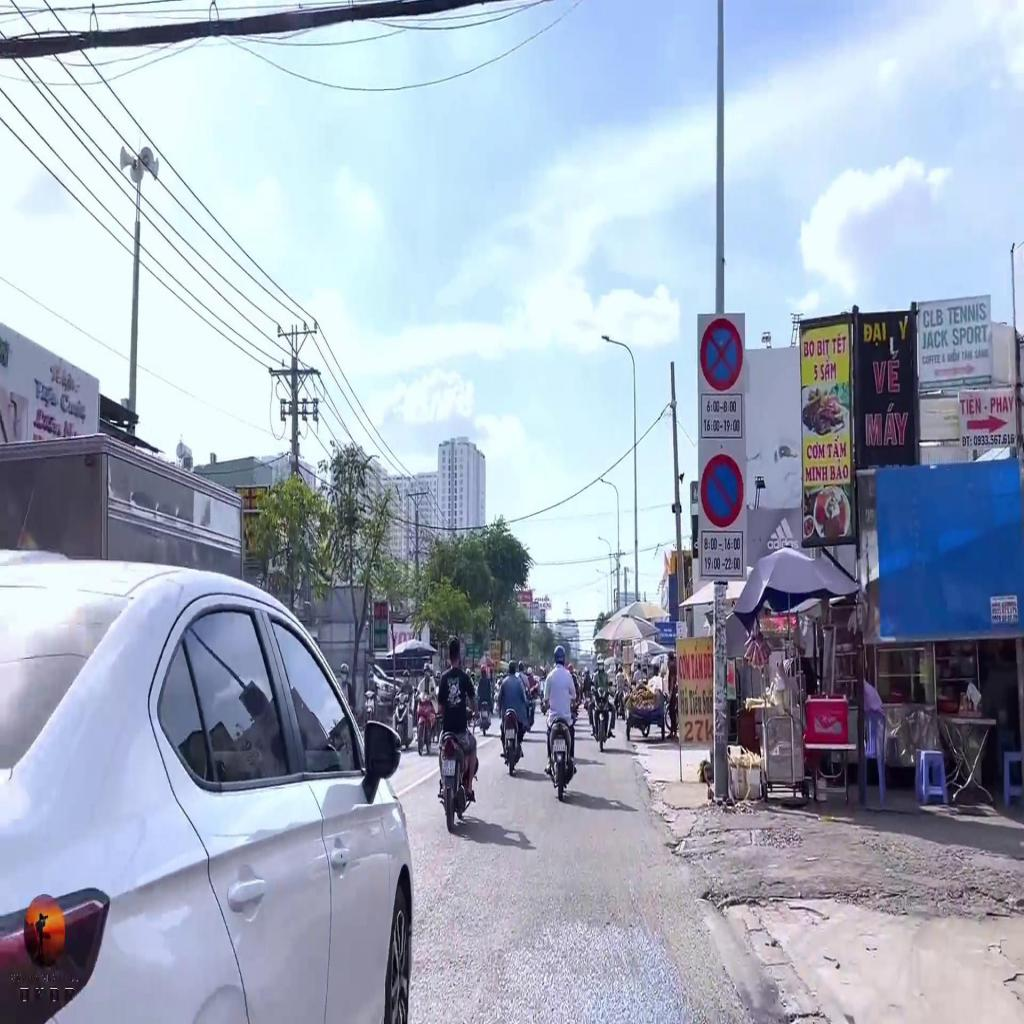cam_do_xe: (701, 452, 743, 528)
cam_dung_xe_va_do_xe: (699, 318, 744, 392)
